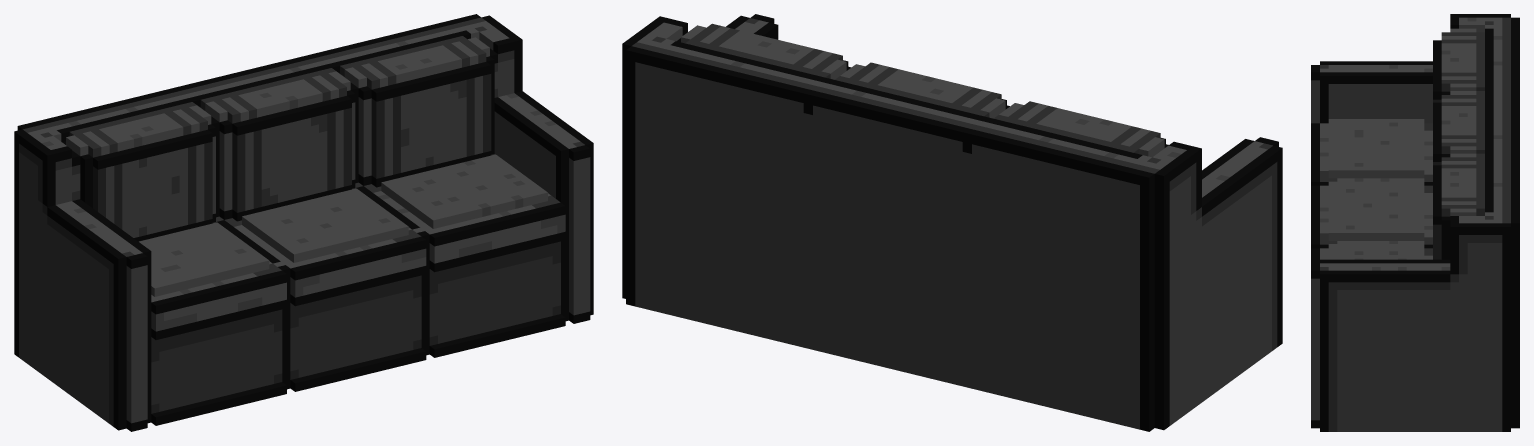
The model's file is BlackSofa.obj.
3 views of the same model, side by side, from view 1: azimuth 30°, elevation 25°; view 2: azimuth 150°, elevation 25°; view 3: azimuth 270°, elevation 25° (orthographic). The views are drawn at different scales.
Size of the model in its own units: 5.8 by 2.6 by 2.4.
1 material, 1 textured.
